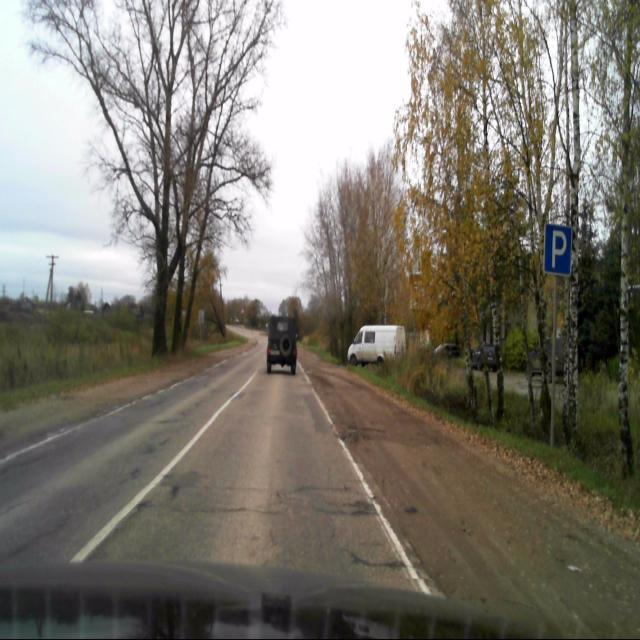road sign: (543, 225, 571, 276)
